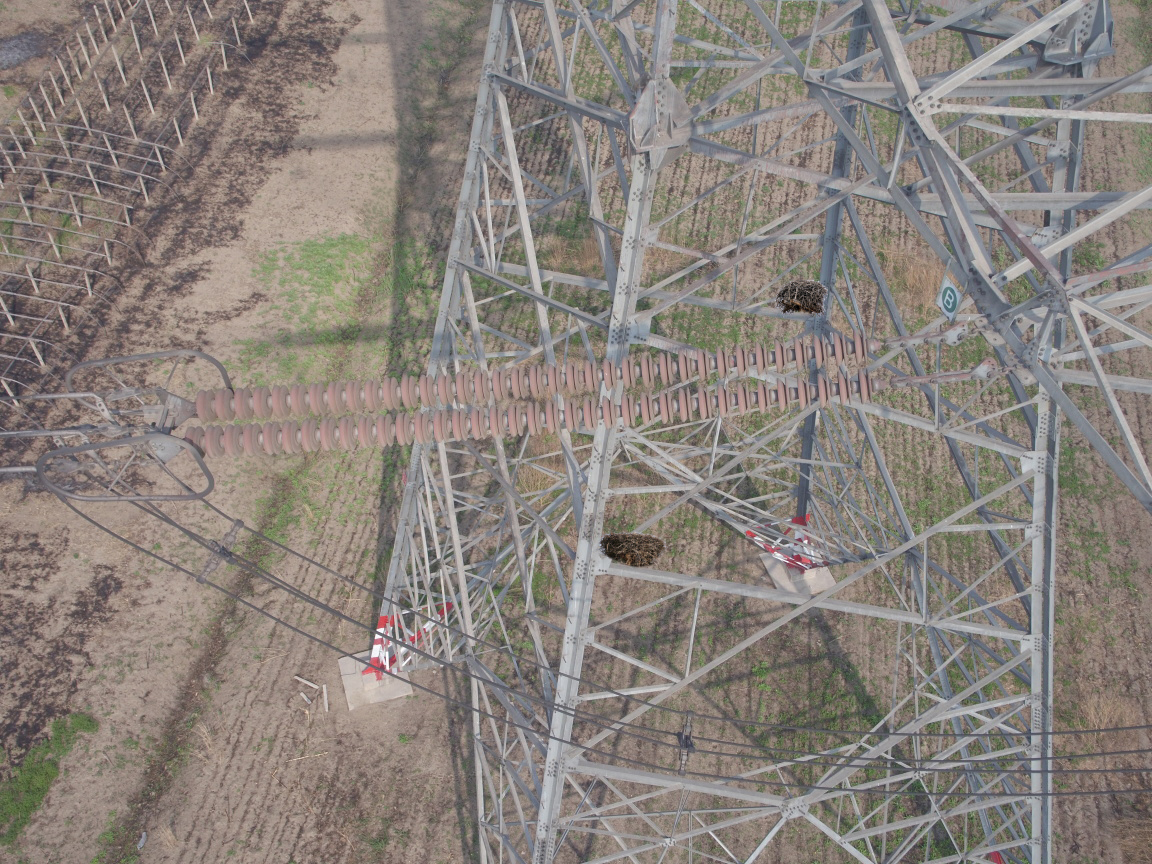nest: (598, 530, 669, 569), (768, 275, 829, 317)
